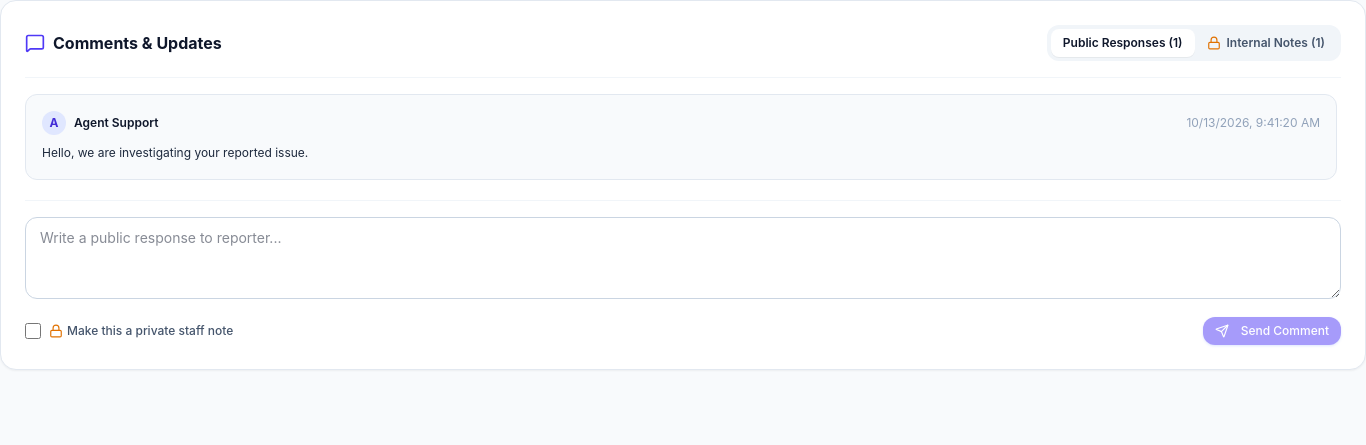
Scenario: CommentSection Component Privacy Separation › renders internal tab and warning banner for staff role
Note: Switch to Internal tab
Click the button "Internal Notes (1)" at (1266, 43), box x1=1194 y1=29 x2=1337 y2=57
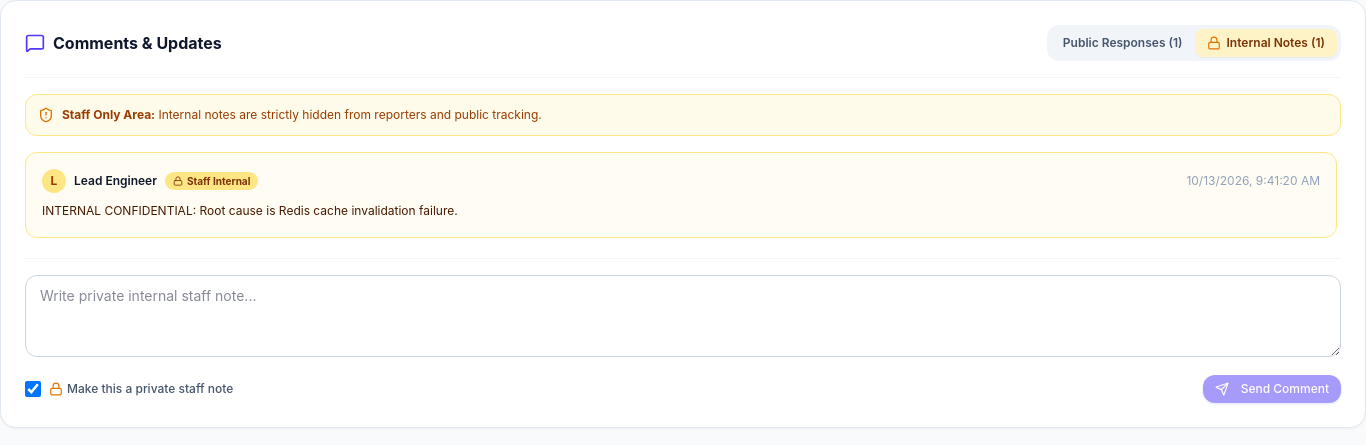
Result: the text "Staff Only Area:" is shown at x1=62 y1=107 x2=155 y2=122
Result: the text "Root cause is Redis" is shown at x1=42 y1=203 x2=458 y2=218
